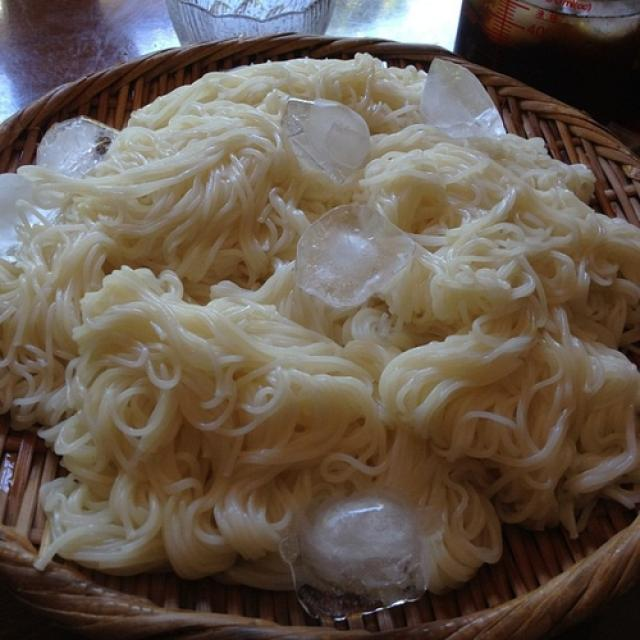面条主食: (26, 55, 624, 626)
